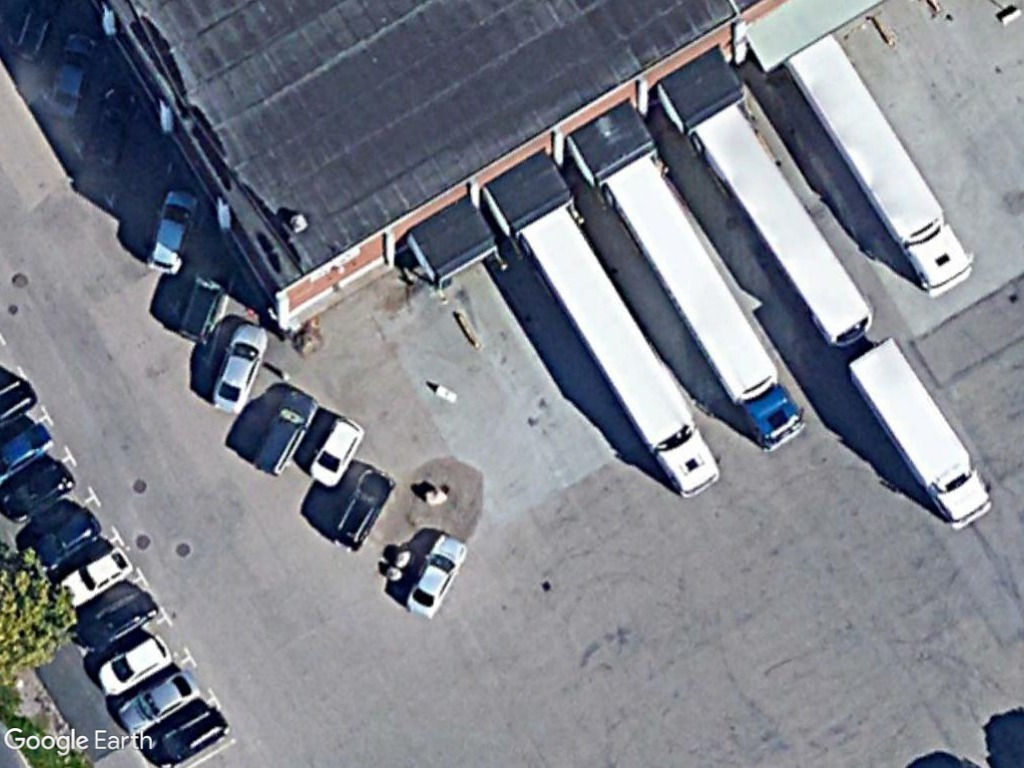car: (114, 665, 207, 740), (250, 384, 319, 482), (328, 465, 398, 558), (208, 315, 270, 420), (403, 529, 473, 620), (143, 187, 204, 282), (54, 539, 133, 612), (87, 632, 172, 699), (305, 411, 368, 489)
longvehicle: (513, 196, 729, 509), (605, 156, 817, 457), (778, 26, 981, 306)
truck: (839, 331, 1002, 533)
